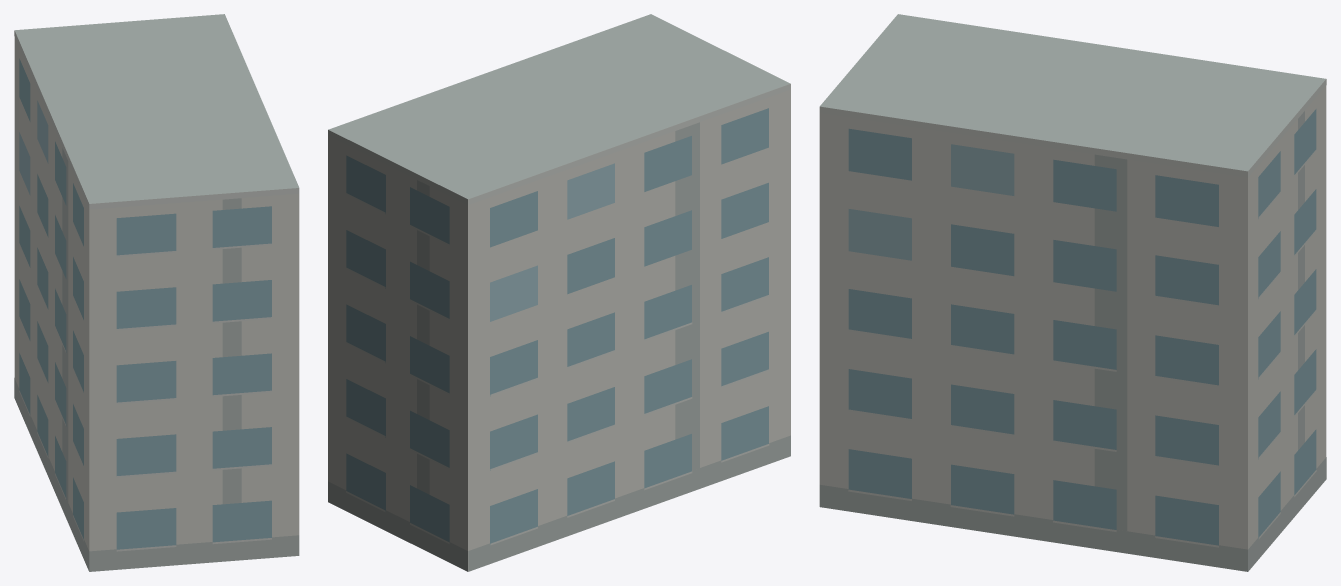
Rendered from residential-53f9054f-0d5a-4829-afb9-b79abca283ca.glb.
3 views of the same model, side by side, from view 1: azimuth 30°, elevation 25°; view 2: azimuth 150°, elevation 25°; view 3: azimuth 270°, elevation 25° (orthographic). The views are drawn at different scales.
Visible parts, largest first — view 1: residential-53f9054f-0d5a-4829-afb9-b79abca283ca.tmp; view 2: residential-53f9054f-0d5a-4829-afb9-b79abca283ca.tmp; view 3: residential-53f9054f-0d5a-4829-afb9-b79abca283ca.tmp.
Part boxes in pixels (bbox=[...]): residential-53f9054f-0d5a-4829-afb9-b79abca283ca.tmp: bbox=[14, 14, 299, 571]; residential-53f9054f-0d5a-4829-afb9-b79abca283ca.tmp: bbox=[328, 14, 790, 571]; residential-53f9054f-0d5a-4829-afb9-b79abca283ca.tmp: bbox=[819, 14, 1326, 571].
Bounding box in the file's own units: 12.86 × 15.25 × 17.5.
